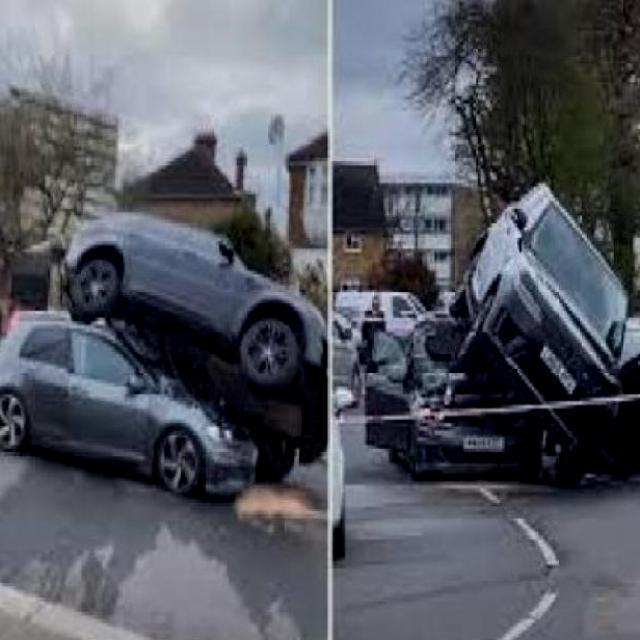accident: (66, 230, 330, 486), (413, 215, 632, 470)
